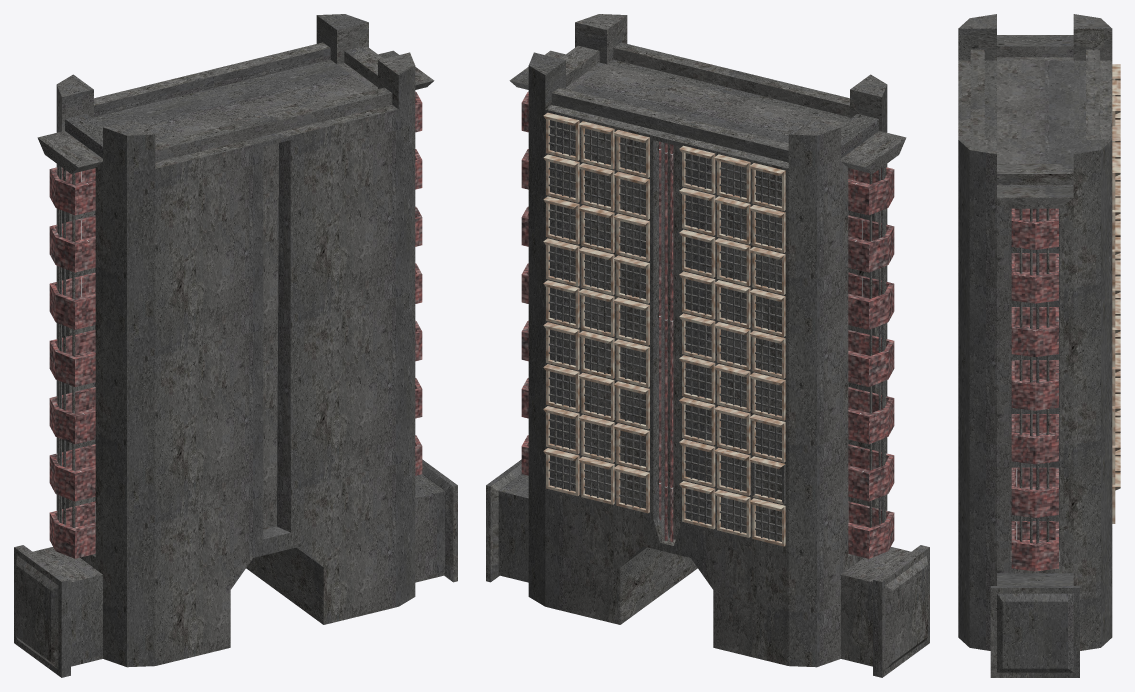
Rendered from Workers_Housing_3.fbx.
The picture shows the model from 3 angles, left to right: view 1: azimuth 30°, elevation 25°; view 2: azimuth 150°, elevation 25°; view 3: azimuth 270°, elevation 25°; orthographic projection. The views are drawn at different scales.
Parts seen in each view (by area): view 1: Workers_Housing_2; view 2: Workers_Housing_2; view 3: Workers_Housing_2.
Part boxes in pixels (x1=…): Workers_Housing_2: x1=14, y1=14, x2=457, y2=677; Workers_Housing_2: x1=486, y1=14, x2=929, y2=677; Workers_Housing_2: x1=958, y1=14, x2=1120, y2=677.
Size of the model in its own units: 2837 by 3599 by 1052.
